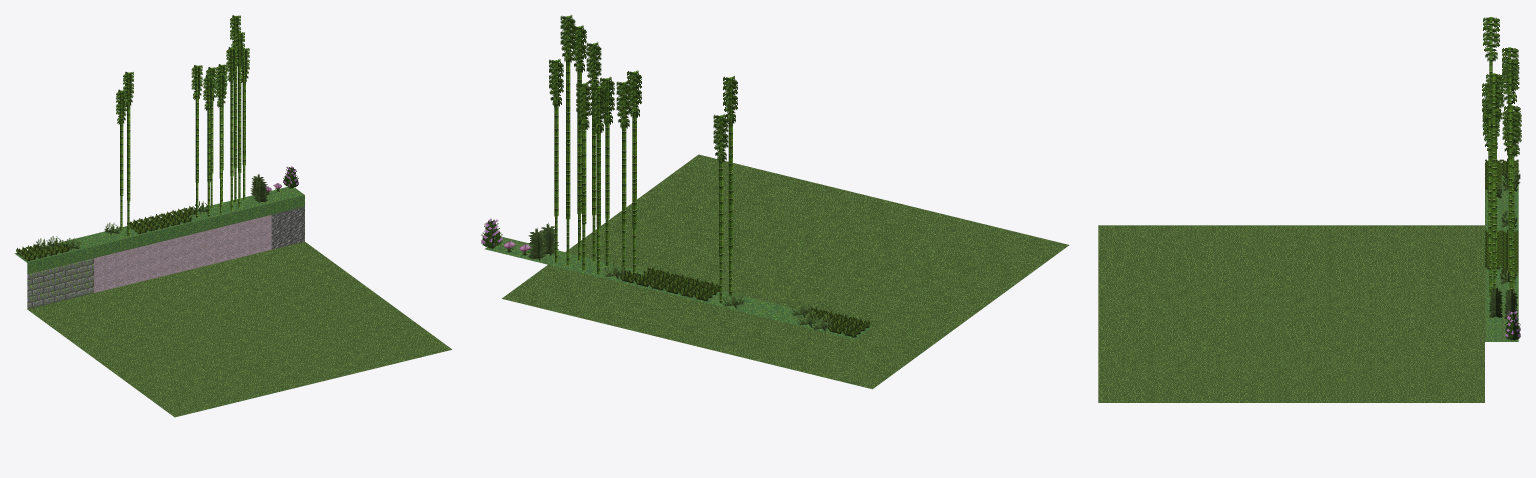
The model's file is chunk275-0-lvl-1-transformed.glb.
3 views of the same model, side by side, from view 1: azimuth 30°, elevation 25°; view 2: azimuth 150°, elevation 25°; view 3: azimuth 270°, elevation 25° (orthographic). The views are drawn at different scales.
Parts seen in each view (by area): view 1: Grass_Block, Bamboo, Clay, Moss_Block, Mossy_Stone_Bricks, Potato, Tuff, Grass; view 2: Grass_Block, Bamboo, Moss_Block, Potato, Grass, Large_Fern; view 3: Grass_Block, Bamboo, Moss_Block, Potato, Large_Fern, Grass.
Boxes of the visible parts, box(x1,y1,x2,y2) form: Grass_Block: box(27, 241, 451, 417); Bamboo: box(116, 15, 249, 235); Clay: box(94, 215, 271, 292); Moss_Block: box(14, 187, 304, 274); Mossy_Stone_Bricks: box(27, 258, 93, 309); Potato: box(16, 206, 195, 261); Tuff: box(271, 207, 304, 249); Grass: box(35, 201, 207, 250); Grass_Block: box(502, 154, 1069, 389); Bamboo: box(549, 15, 737, 303); Moss_Block: box(484, 236, 872, 339); Potato: box(620, 267, 870, 337); Grass: box(605, 262, 832, 331); Large_Fern: box(528, 223, 558, 260); Grass_Block: box(1098, 225, 1484, 402); Bamboo: box(1482, 17, 1521, 296); Moss_Block: box(1485, 165, 1518, 341); Potato: box(1485, 158, 1518, 276); Large_Fern: box(1489, 287, 1517, 319); Grass: box(1487, 167, 1520, 284).
Size of the model in its own units: 25.14 by 24 by 25.18.
16 materials, 16 textured.
